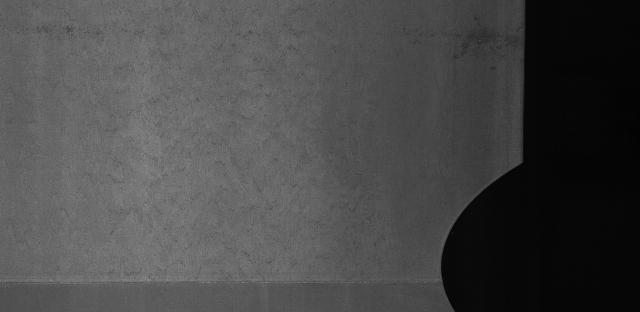welding_line: (3, 270, 469, 297)
